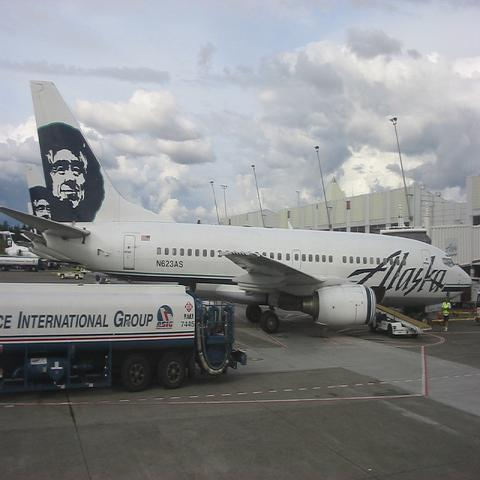car: (58, 268, 84, 282)
truck: (0, 284, 246, 393)
